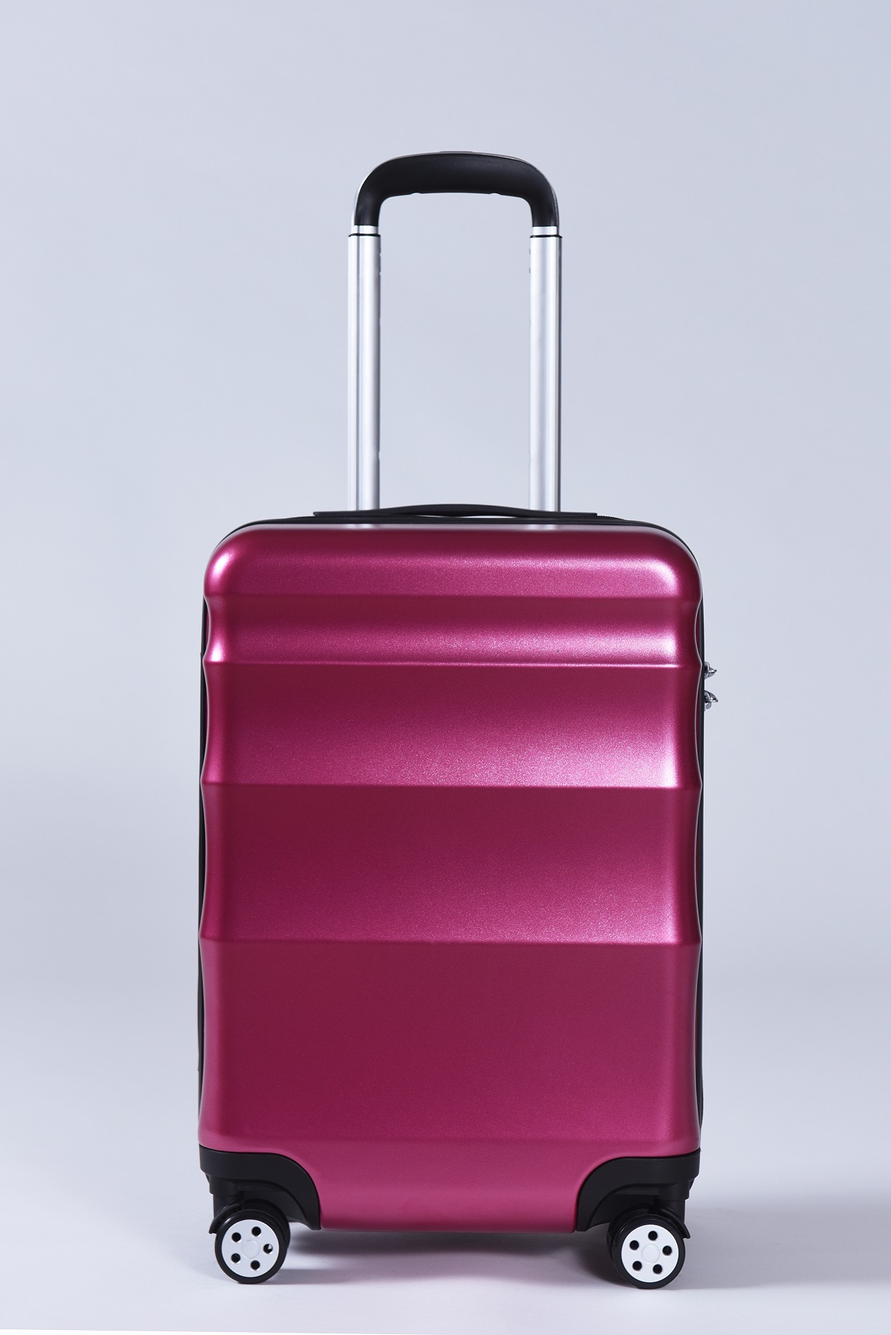box: (194, 520, 707, 1228)
handle: (307, 502, 600, 524)
wheel: (214, 1211, 292, 1286), (607, 1218, 687, 1291)
